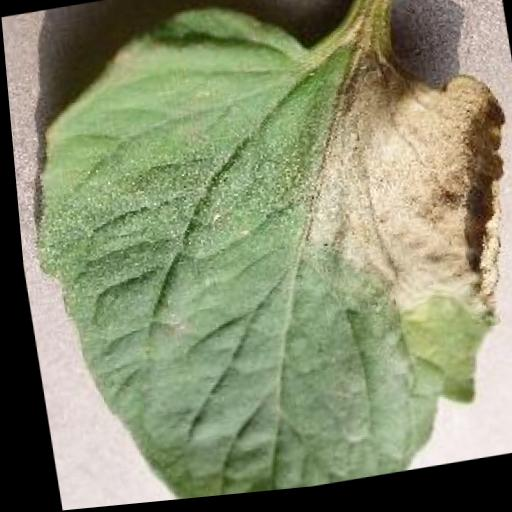Late Blight: (1, 0, 512, 512)
